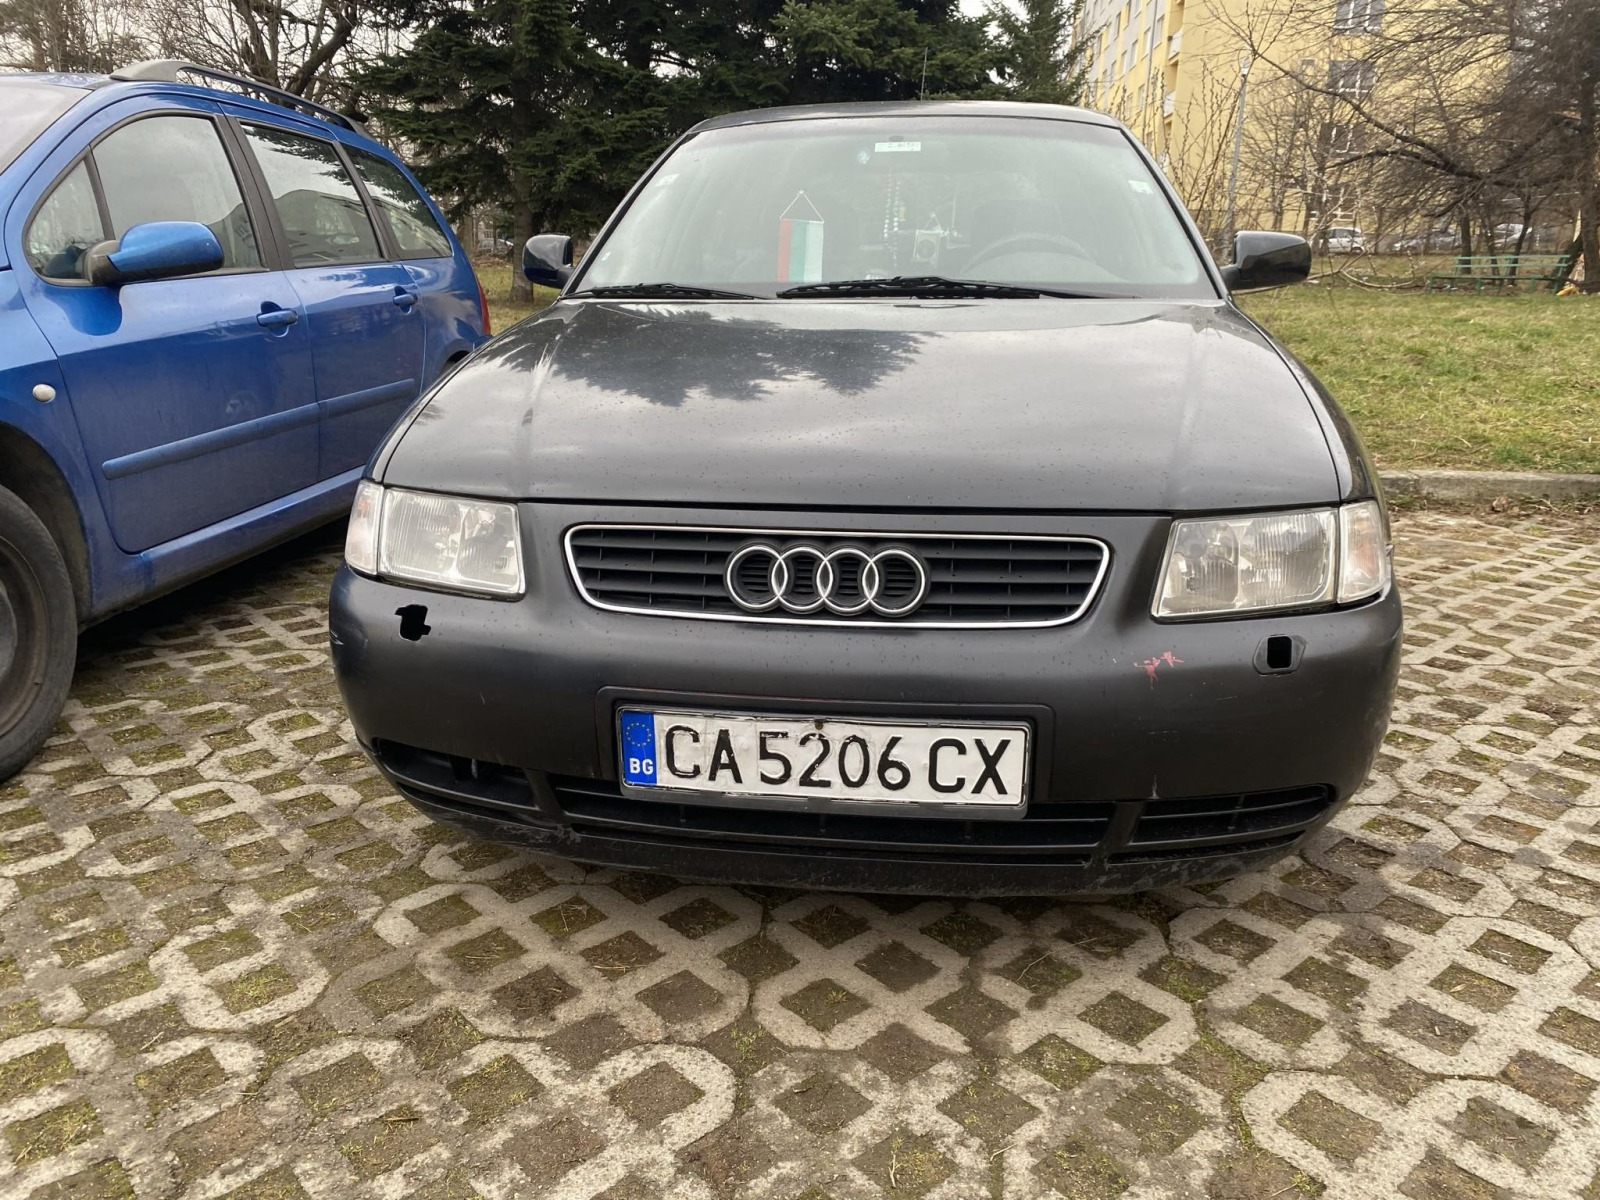registration_plate: (610, 701, 1037, 823)
